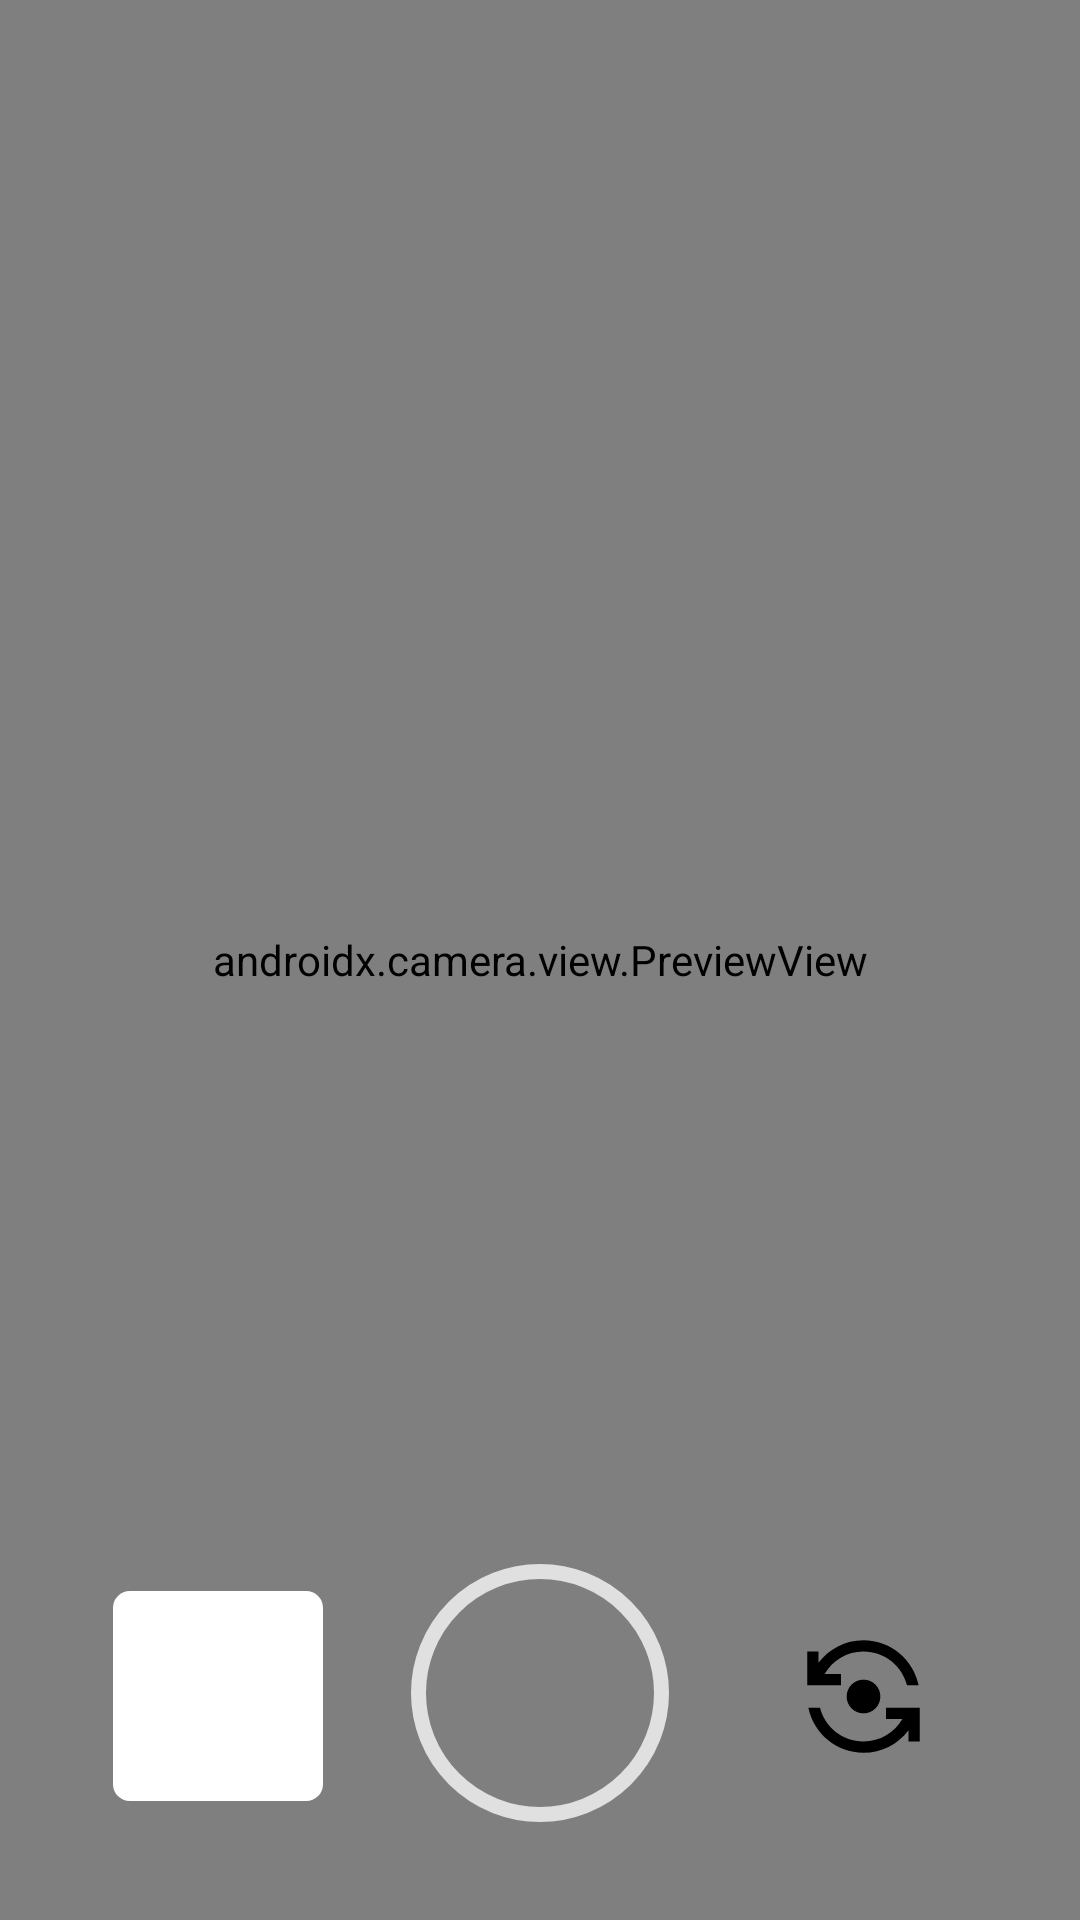

Locate icon controls on the screen. Image size 1080w x 1920h, boxes as bbox=[x1, y1, x2, y2].
flip cameras: bbox=[807, 1640, 920, 1753]
